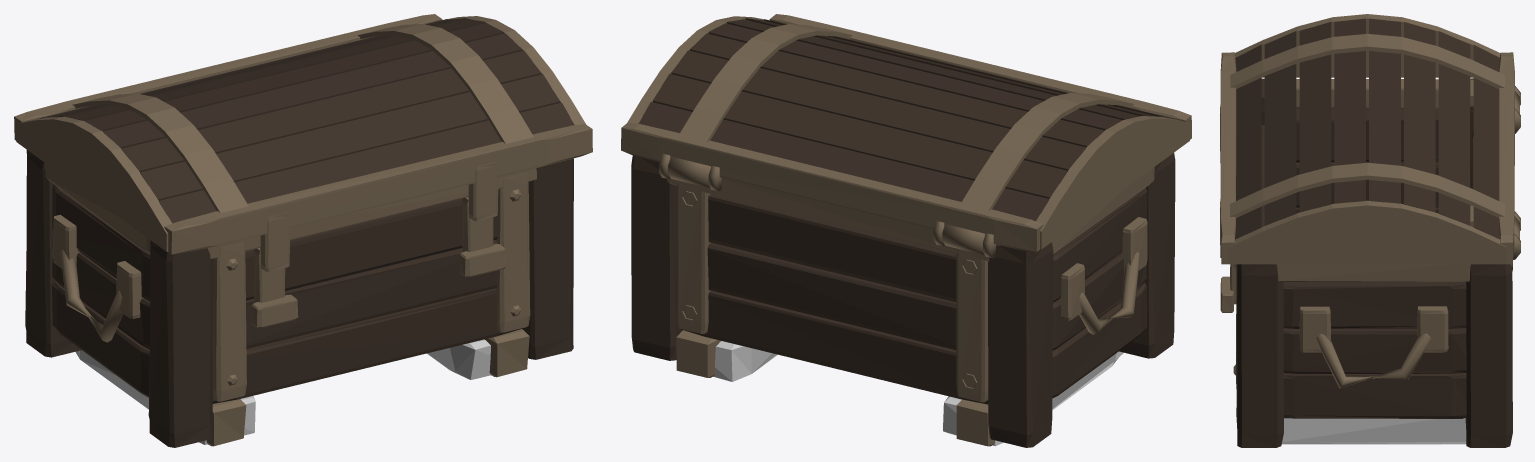
Rendered from archive_reliquary.glb.
3 renders of one model, left to right at view 1: azimuth 30°, elevation 25°; view 2: azimuth 150°, elevation 25°; view 3: azimuth 270°, elevation 25°, orthographic. The views are drawn at different scales.
Parts seen in each view (by area): view 1: Body__oak, ChestLid__oak, ChestLid__bronze, Body__bronze, Body__dressed_stone; view 2: Body__oak, ChestLid__oak, ChestLid__bronze, Body__bronze, Body__dressed_stone; view 3: Body__oak, ChestLid__oak, ChestLid__bronze, Body__bronze, Body__dressed_stone.
Part boxes in pixels (bbox=[...]): Body__oak: bbox=[25, 150, 573, 447]; ChestLid__oak: bbox=[39, 18, 574, 223]; ChestLid__bronze: bbox=[14, 14, 592, 271]; Body__bronze: bbox=[45, 163, 536, 446]; Body__dressed_stone: bbox=[75, 339, 490, 444]; Body__oak: bbox=[631, 153, 1175, 447]; ChestLid__oak: bbox=[638, 18, 1168, 221]; ChestLid__bronze: bbox=[621, 14, 1191, 255]; Body__bronze: bbox=[659, 153, 1154, 446]; Body__dressed_stone: bbox=[713, 341, 1123, 446]; Body__oak: bbox=[1236, 78, 1512, 447]; ChestLid__oak: bbox=[1235, 18, 1499, 239]; ChestLid__bronze: bbox=[1220, 14, 1519, 264]; Body__bronze: bbox=[1220, 79, 1520, 388]; Body__dressed_stone: bbox=[1282, 418, 1466, 444].
Bounding box in the file's own units: 1.5 × 0.948 × 0.9724.
